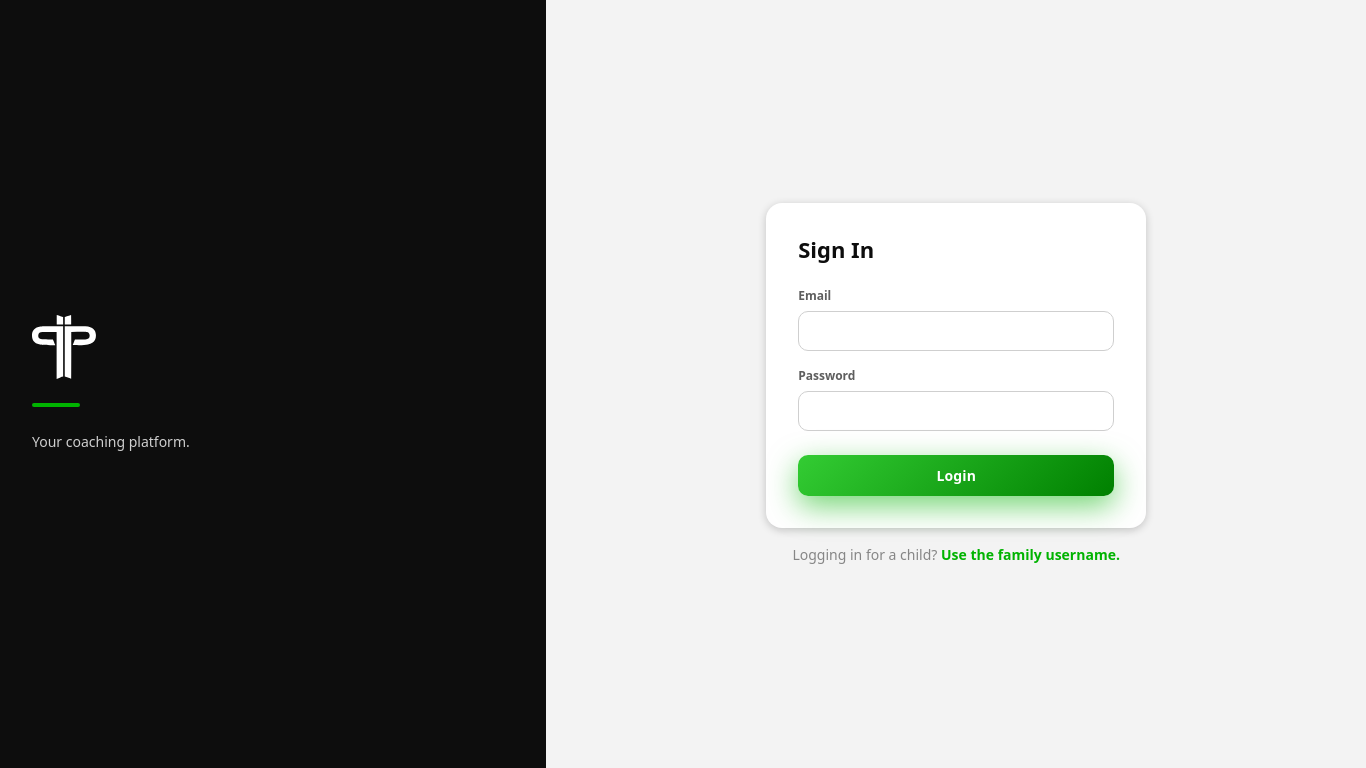
LoginPage › shows inline error on 401 with aria-live
Type "bad@example.com" into the field labelled "Email" at (956, 330), box [798, 310, 1114, 350]
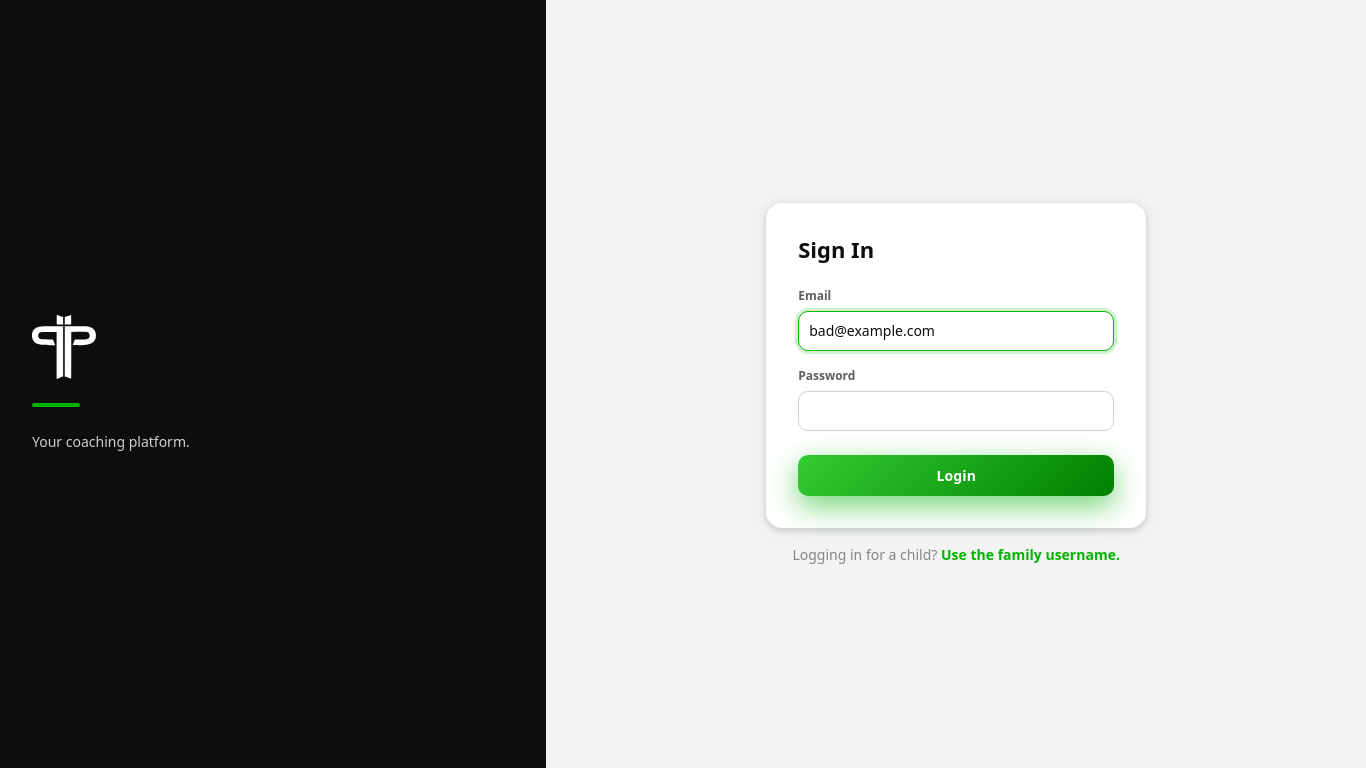
Type "wrongpass" into the password field labelled "Password" at (956, 410), box [798, 390, 1114, 430]
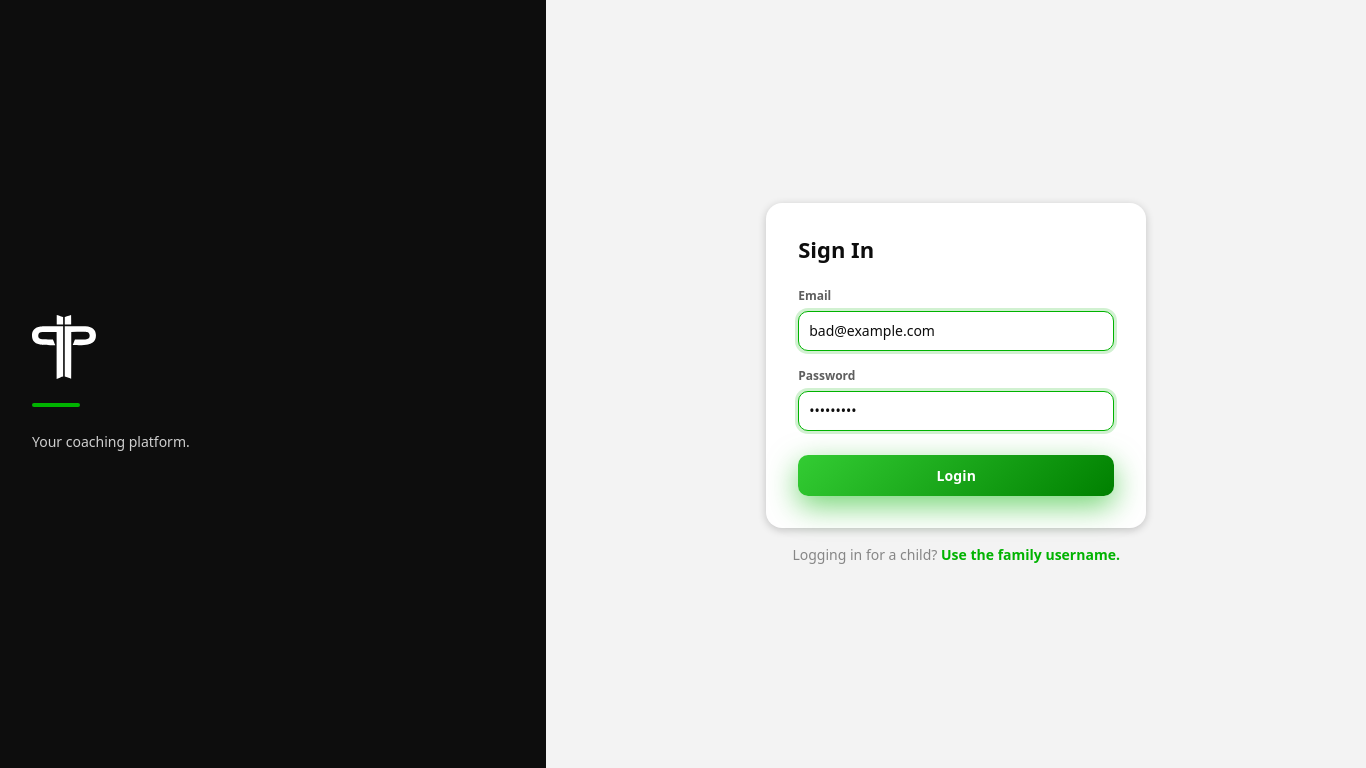
Click the button "Login" at (956, 475), box [798, 454, 1114, 496]
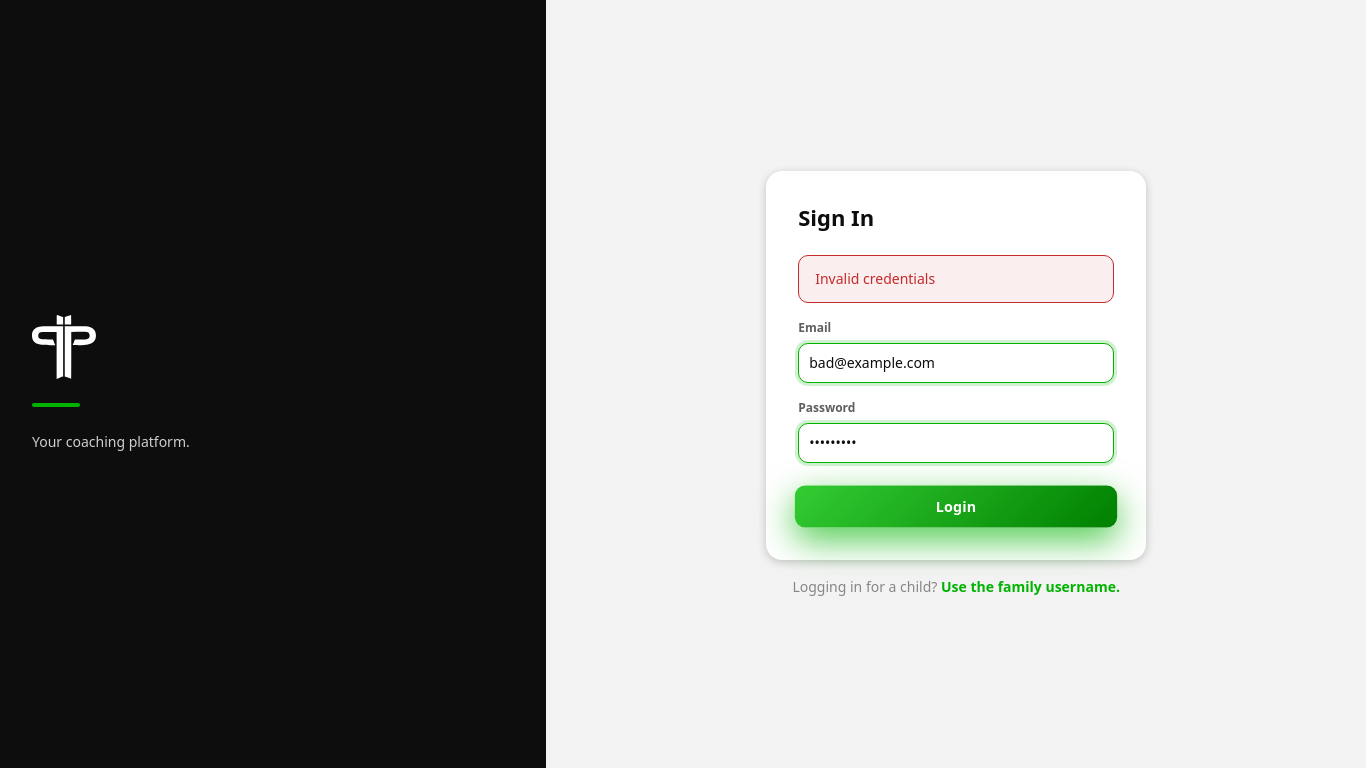
Now the text "Invalid credentials" is shown, box [798, 254, 1114, 302]
